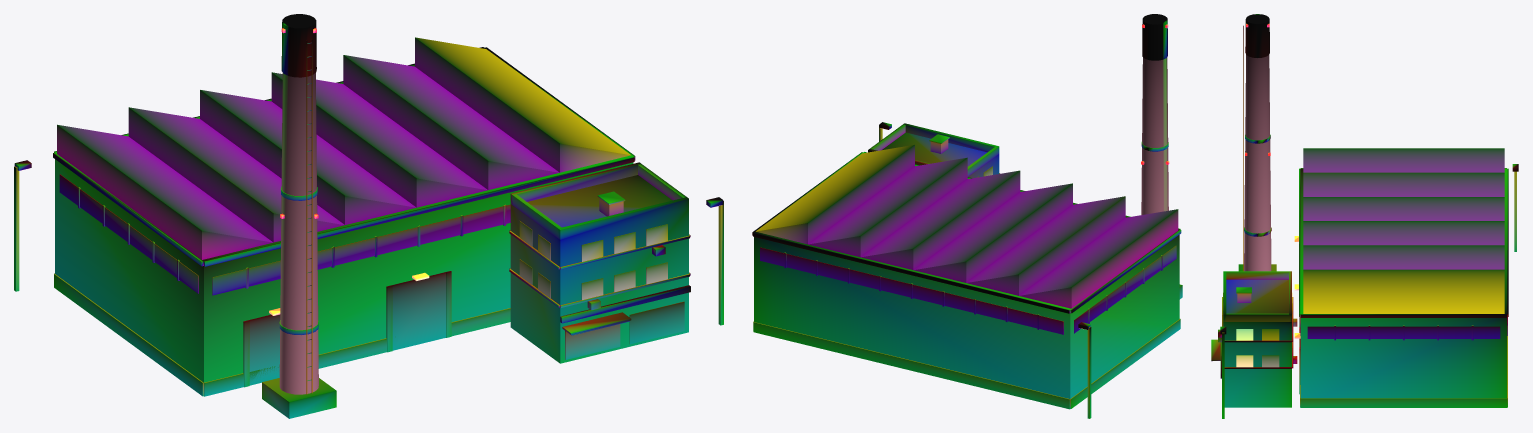
The model's file is Ind_Hall.fbx.
The picture shows the model from 3 angles, left to right: view 1: azimuth 30°, elevation 25°; view 2: azimuth 150°, elevation 25°; view 3: azimuth 270°, elevation 25°; orthographic projection. The views are drawn at different scales.
Visible parts, largest first — view 1: Ind_Hall_LOD0; view 2: Ind_Hall_LOD0; view 3: Ind_Hall_LOD0.
Part boxes in pixels (x1=…): Ind_Hall_LOD0: x1=14, y1=14, x2=723, y2=418; Ind_Hall_LOD0: x1=752, y1=14, x2=1182, y2=418; Ind_Hall_LOD0: x1=1211, y1=14, x2=1518, y2=418.
Size of what is drawn, in the model's own units: 46.3 by 34 by 35.75.
